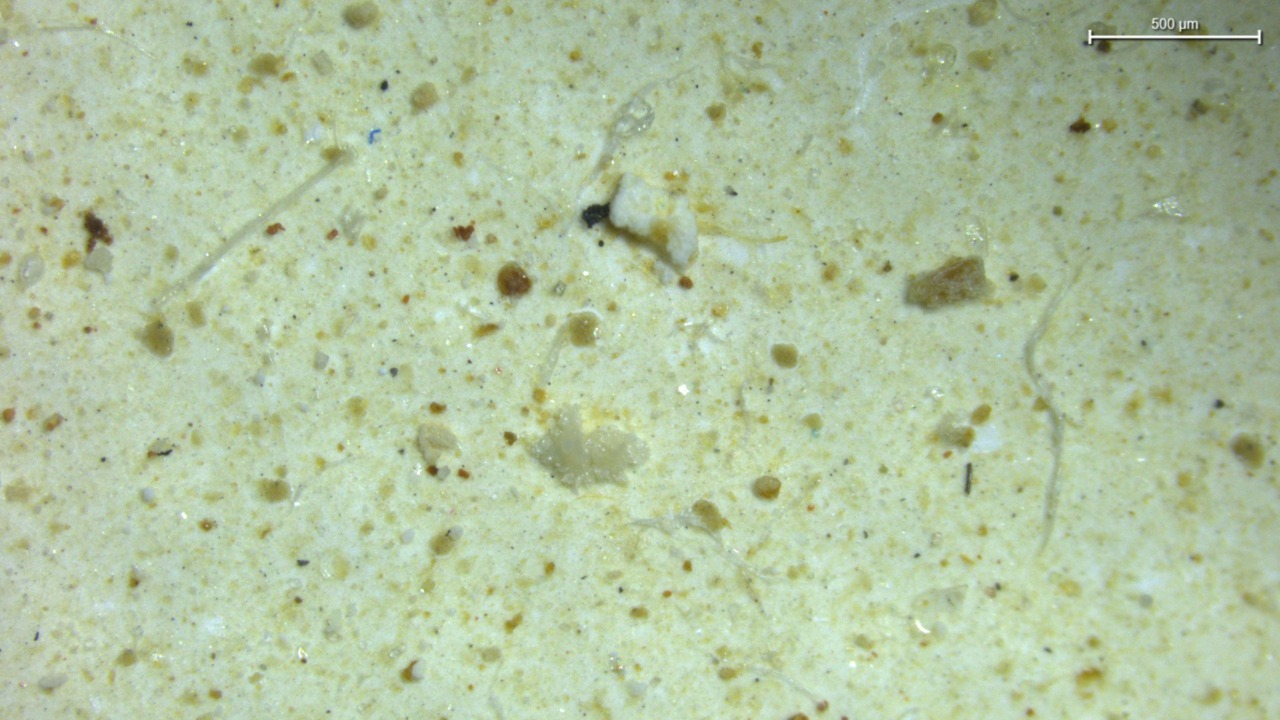microplastic_fragment: (531, 405, 648, 486), (609, 173, 697, 270)
